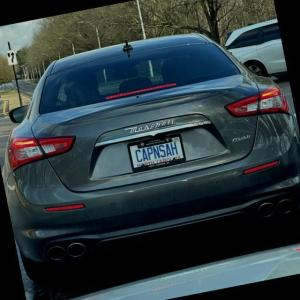Plate: (127, 132, 186, 172)
